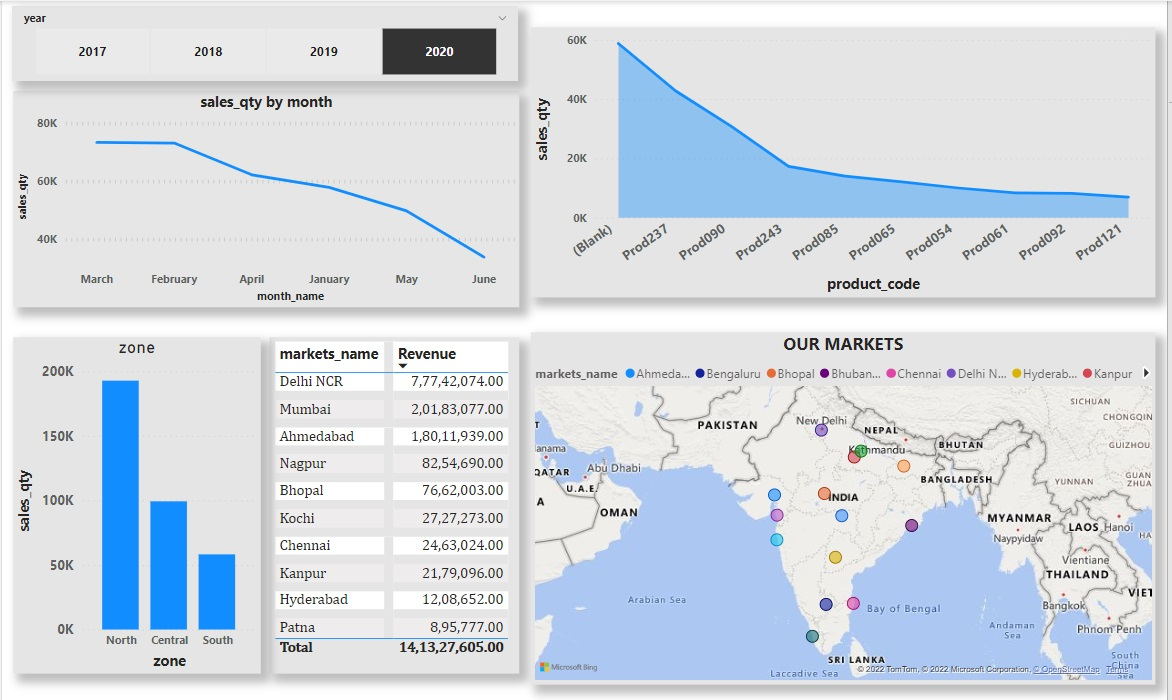

Layout of this report page (visuals, bound fields, positions):
{"tool":"powerbi","page":{"name":"Page 2","canvas":[1280,800],"ordinal":1},"visuals":[{"type":"lineChart","title":"sales_qty by month","fields":{"Category":["sales date.month_name"],"Y":["Sum(sales transactions.sales_qty)"]},"box":[12.4,98.9,556.2,237.6],"z":0},{"type":"slicer","fields":{"Values":["sales date.year"]},"box":[11,5.5,556.2,82.4],"z":1000},{"type":"tableEx","fields":{"Values":["sales markets.markets_name","BaseMeasure.Revenue"]},"box":[293.9,369.4,274.7,369.4],"z":2000},{"type":"columnChart","title":"zone","fields":{"Category":["sales markets.zone"],"Y":["Sum(sales transactions.sales_qty)"]},"box":[12.4,369.4,271.9,369.4],"z":3000},{"type":"areaChart","fields":{"Y":["Sum(sales transactions.sales_qty)"],"Category":["sales products.product_code"]},"box":[580.9,28.8,686.7,296.7],"z":3001},{"type":"map","title":"OUR MARKETS","fields":{"Category":["sales markets.markets_name"],"Series":["sales markets.markets_name"]},"box":[580.9,363.9,686.7,387.3],"z":3002}]}

Visuals, with their boxes on the page's 1280x800 design canvas (x1, y1, x2, y2). These are canvas units, not pixel positions in the 1172x700 screenshot, which may show the page scaled, cropped or inside an application window:
"sales_qty by month" lineChart: <region>12, 99, 569, 336</region>
slicer - sales date.year: <region>11, 6, 567, 88</region>
tableEx - sales markets.markets_name x BaseMeasure.Revenue: <region>294, 369, 569, 739</region>
"zone" columnChart: <region>12, 369, 284, 739</region>
areaChart - Sum(sales transactions.sales_qty) x sales products.product_code: <region>581, 29, 1268, 326</region>
"OUR MARKETS" map: <region>581, 364, 1268, 751</region>
